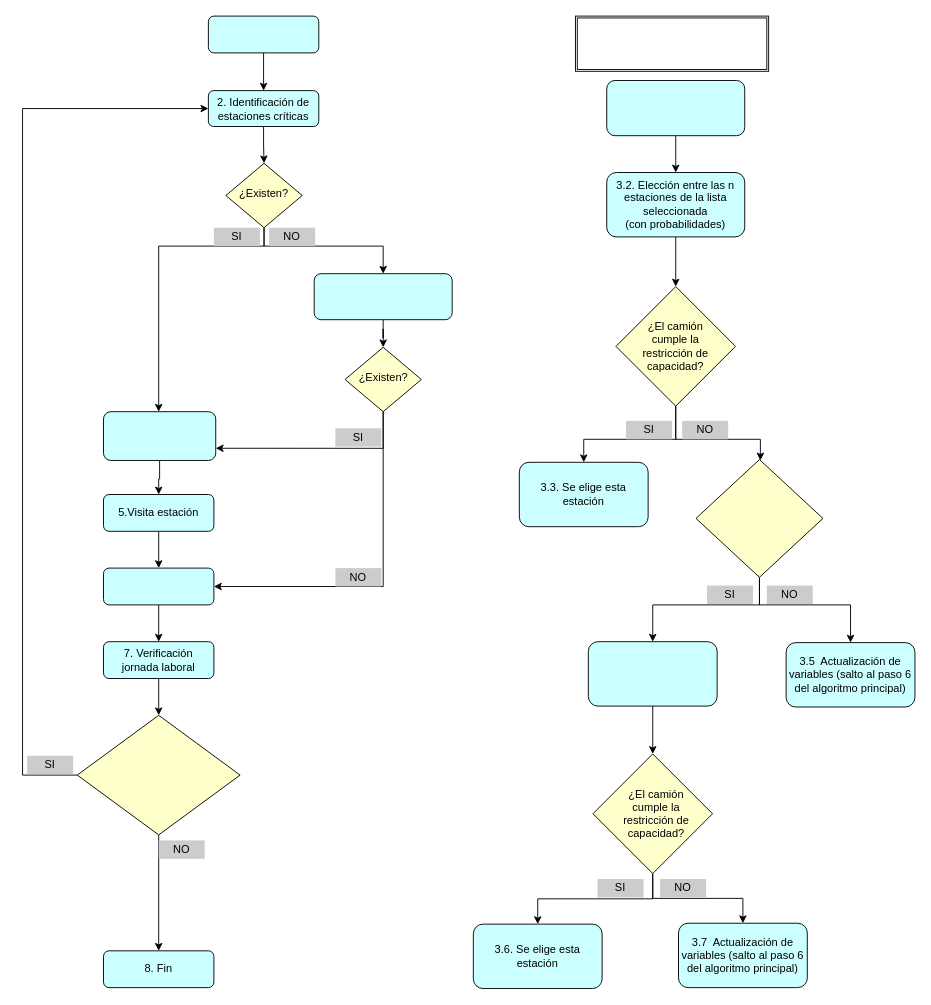
This 931x1005 diagram has some shape labels left out. The box of each missing label's shape, as (x1, y1, x2, y2) in pixels:
1. Inicio: (207, 15, 319, 53)
3. Elección con probabilidades de estación a visitar: (103, 411, 216, 460)
3.1. Elección aleatoria entre lista de estaciones saturadas/desabastecidas: (606, 80, 745, 136)
3.4. Elección entre las n estaciones de la lista contraria (con probabilidades): (587, 641, 717, 706)
4. Identificación de estaciones en semiriesgo: (313, 273, 452, 320)
6. Actualización de variables: (103, 567, 214, 605)
Se explica con más detalle el proceso número 3 del algoritmo principal.: (575, 15, 769, 71)
¿ Se puede visitar más estaciones cumpliendo el tiempo?: (76, 714, 240, 835)
¿Existen estaciones en el grupo contrario?: (695, 459, 823, 577)
